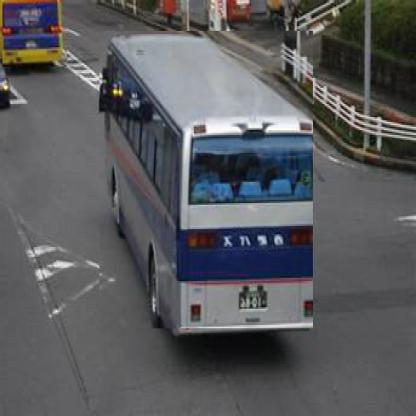bus: (99, 32, 314, 331), (2, 3, 68, 69)
